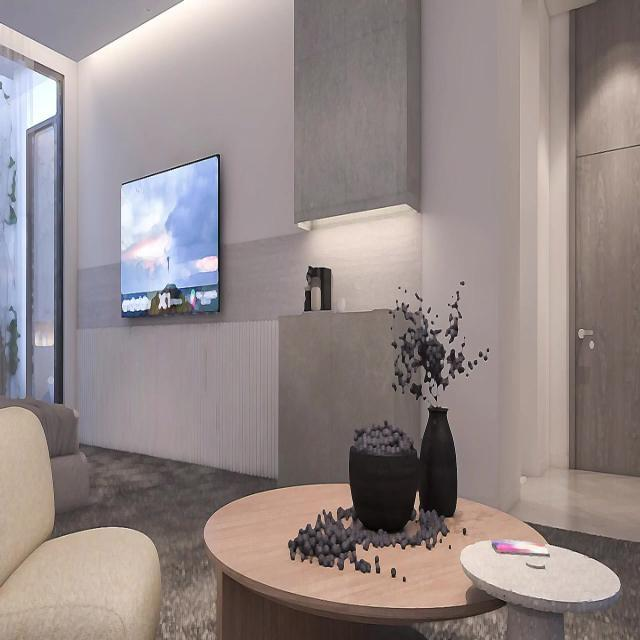door: (567, 0, 639, 477)
obstacle: (203, 481, 549, 638), (0, 399, 162, 638), (459, 536, 621, 638)
